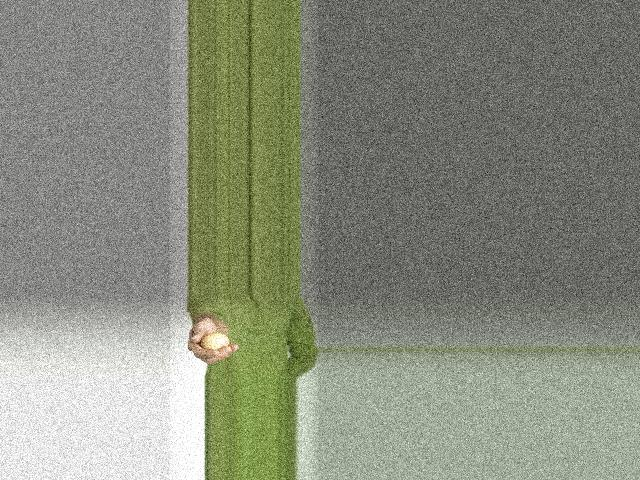egg: (201, 333, 230, 350)
